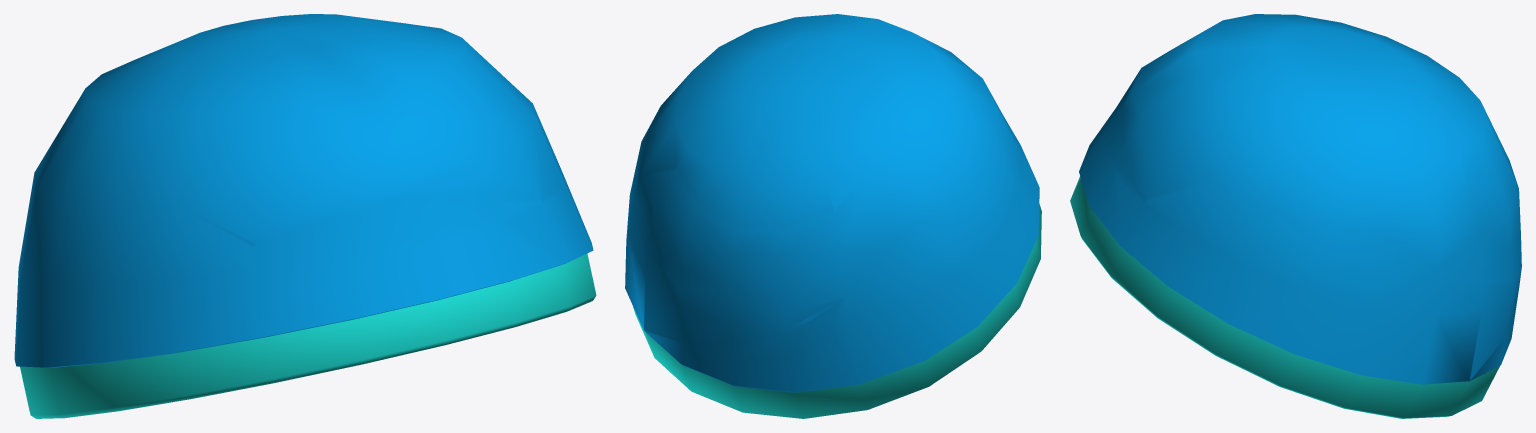
The model's file is Helmet_Doctor.fbx.
3 renders of one model, left to right at view 1: azimuth 30°, elevation 25°; view 2: azimuth 150°, elevation 25°; view 3: azimuth 270°, elevation 25°, orthographic. The views are drawn at different scales.
Parts seen in each view (by area): view 1: Nurse_Hat; view 2: Nurse_Hat; view 3: Nurse_Hat.
Part boxes in pixels (x1,y1,x2,y2): Nurse_Hat: [14, 14, 596, 418]; Nurse_Hat: [625, 14, 1041, 418]; Nurse_Hat: [1070, 14, 1521, 418].
Bounding box in the file's own units: 37.26 × 28.96 × 35.87.
